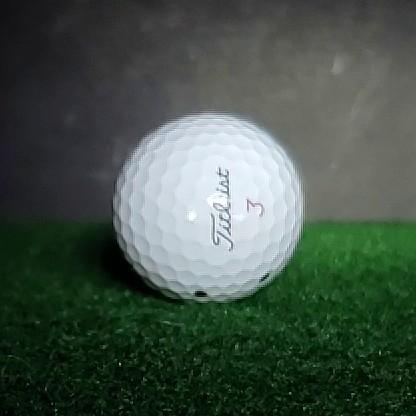golfball: (112, 115, 306, 303)
